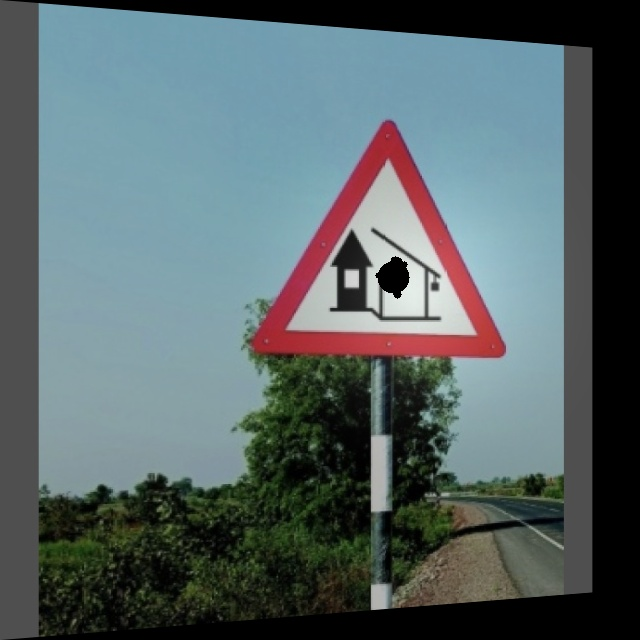Barrier_Ahead: (252, 112, 509, 362)
